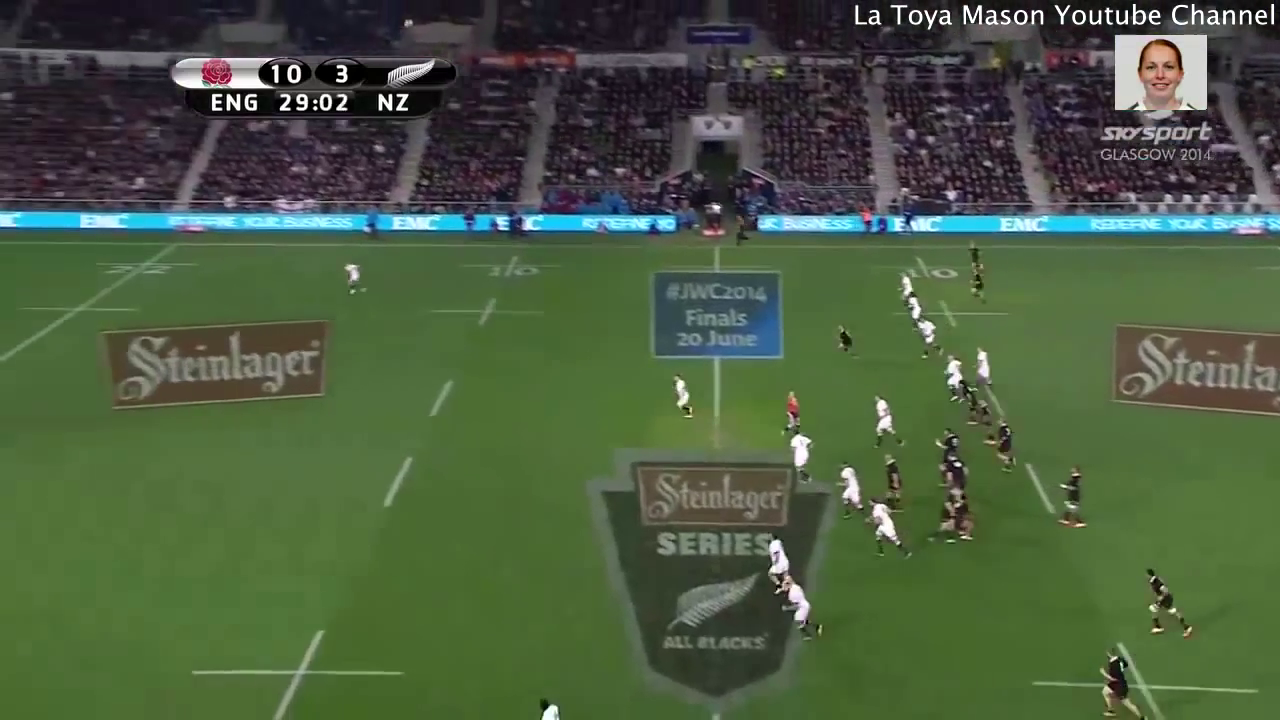10_metre: (182, 617, 409, 720), (1026, 633, 1272, 720), (862, 248, 995, 284), (426, 295, 552, 327), (459, 251, 564, 284)
player: (1133, 558, 1200, 646), (1085, 637, 1152, 720), (777, 572, 833, 652), (863, 493, 918, 568), (925, 484, 984, 548), (825, 456, 873, 526), (867, 389, 911, 459), (784, 423, 823, 493), (1051, 463, 1091, 529), (755, 519, 793, 587), (980, 415, 1021, 478), (665, 367, 703, 426), (770, 386, 809, 440), (961, 338, 1000, 392), (878, 452, 911, 515), (935, 450, 974, 499), (912, 310, 947, 363), (936, 346, 967, 405), (338, 255, 376, 301), (829, 316, 863, 364), (962, 389, 999, 432), (964, 265, 998, 310), (929, 421, 965, 459), (529, 691, 568, 720), (903, 286, 926, 331), (894, 270, 916, 308), (965, 243, 990, 274), (950, 375, 974, 405)
